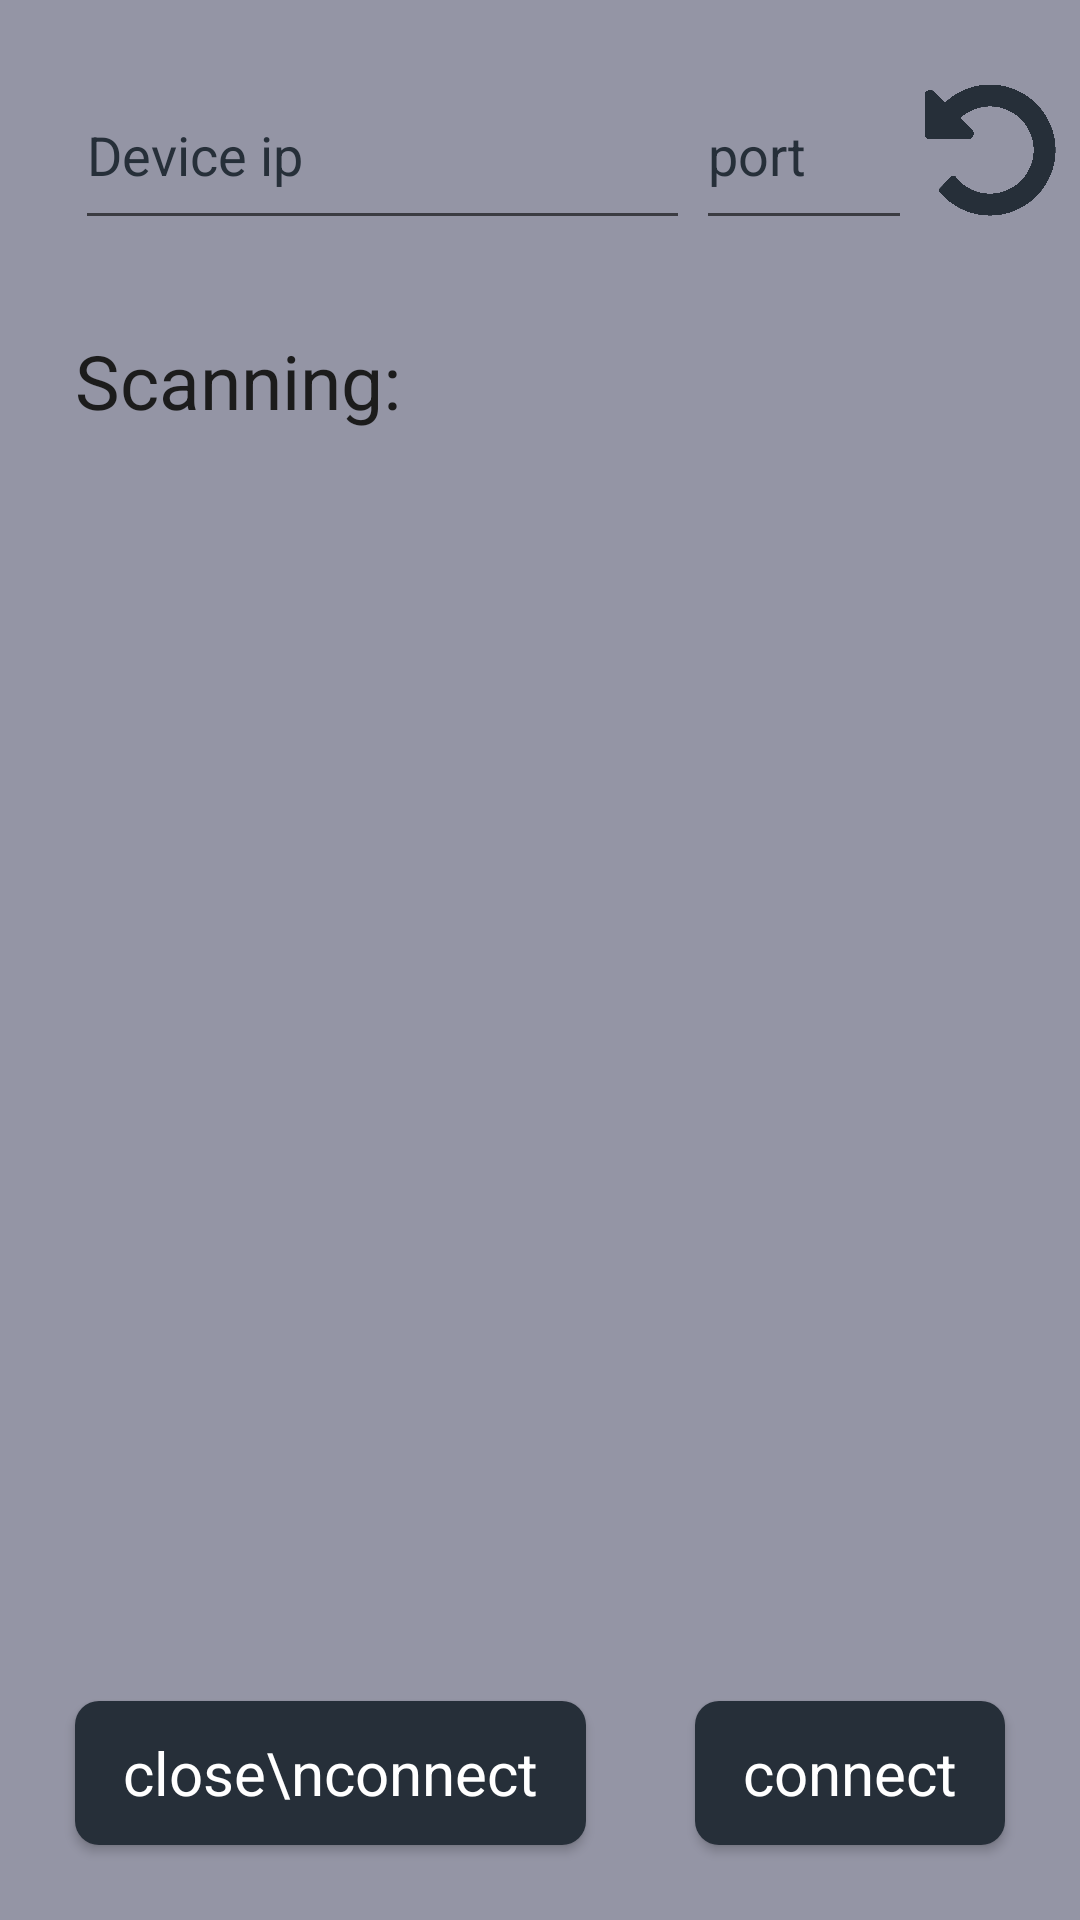

Icons on this 1080px x 1920px Android screen, each with the point to tap as (x=x, y=y):
reload: (x=990, y=150)
